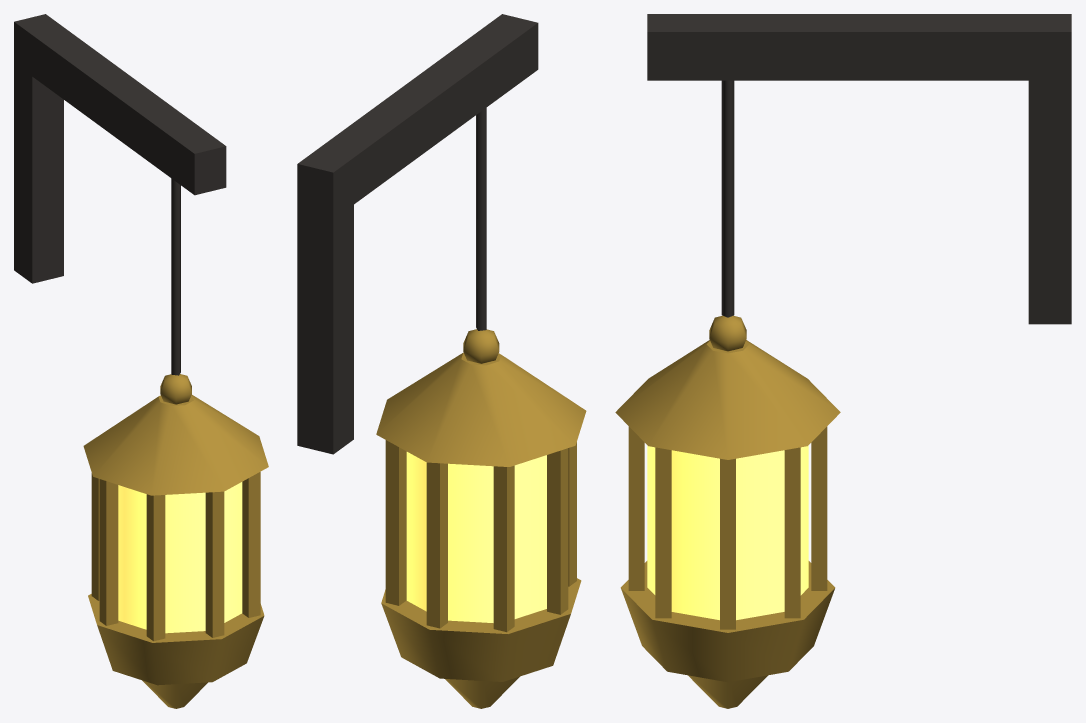
Rendered from dc_lantern.glb.
3 renders of one model, left to right at view 1: azimuth 30°, elevation 25°; view 2: azimuth 150°, elevation 25°; view 3: azimuth 270°, elevation 25°, orthographic. The views are drawn at different scales.
Visible parts, largest first — view 1: dc_lantern; view 2: dc_lantern; view 3: dc_lantern.
Boxes of the visible parts, x1,y1,x2,y2 form: dc_lantern: (14,14,268,708); dc_lantern: (297,14,586,708); dc_lantern: (615,14,1071,708).
Bounding box in the file's own units: 0.42 × 1.4 × 0.85.
